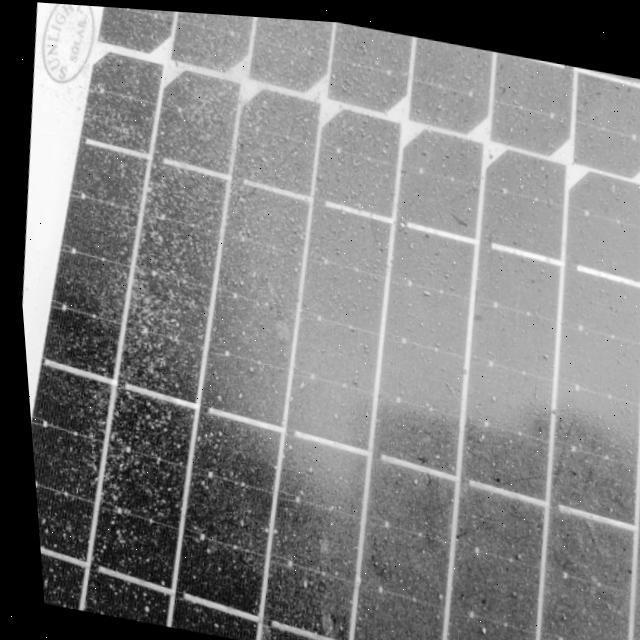Surface Contaminant: (68, 6, 640, 640)
